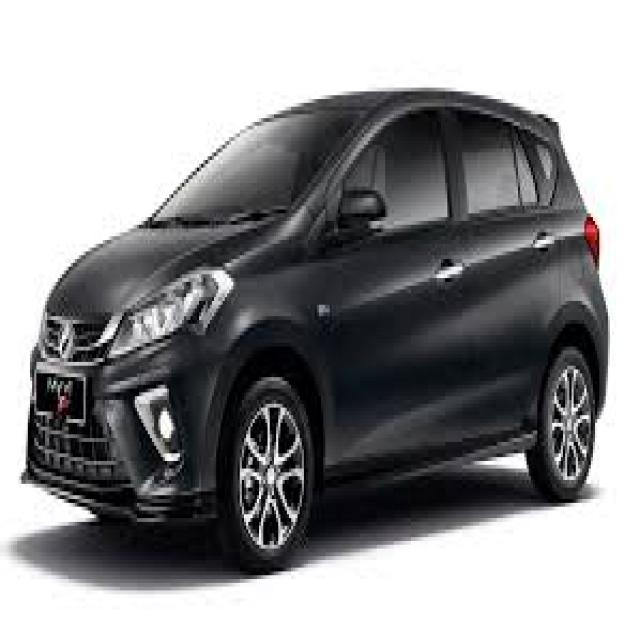PeroduaMyvi: (19, 80, 610, 571)
